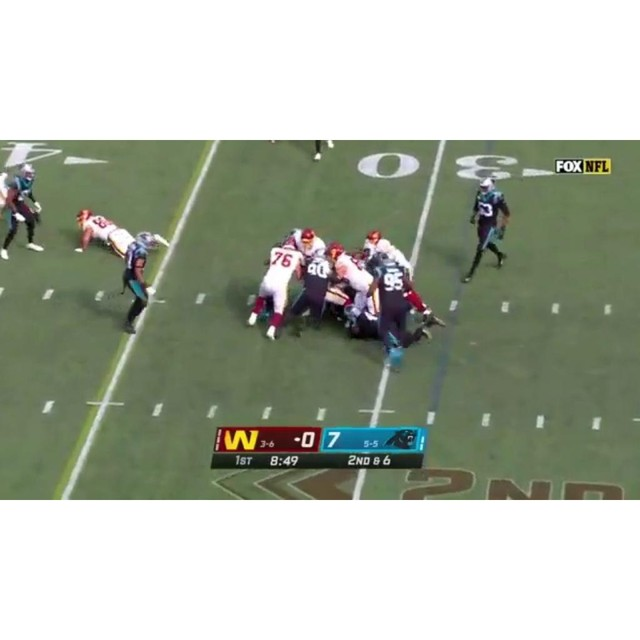american-football-player: (246, 237, 306, 341), (374, 254, 419, 368), (119, 232, 166, 335), (462, 182, 507, 283), (1, 164, 45, 258), (290, 247, 334, 337), (328, 242, 375, 312)
